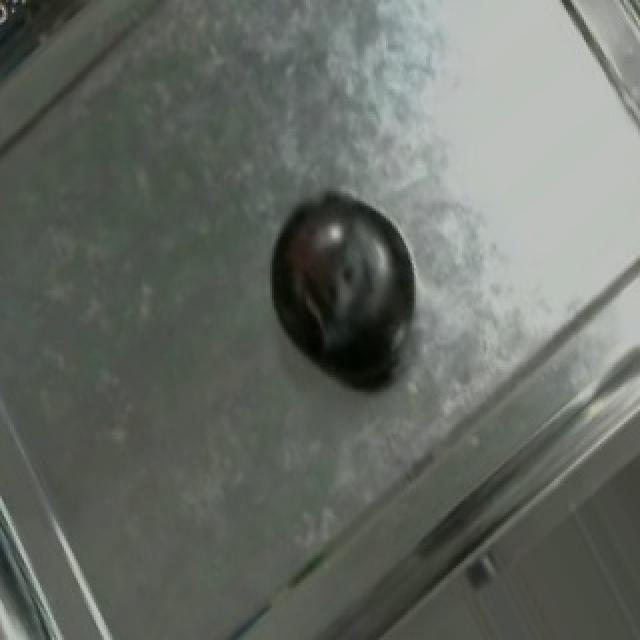Fruit: (248, 173, 444, 394)
